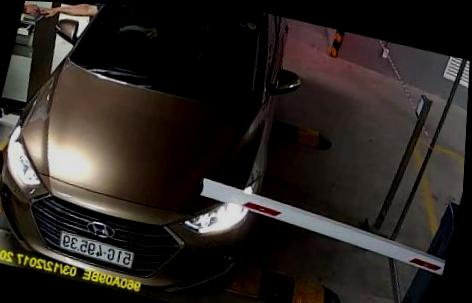License_Plate: (53, 232, 146, 268)
